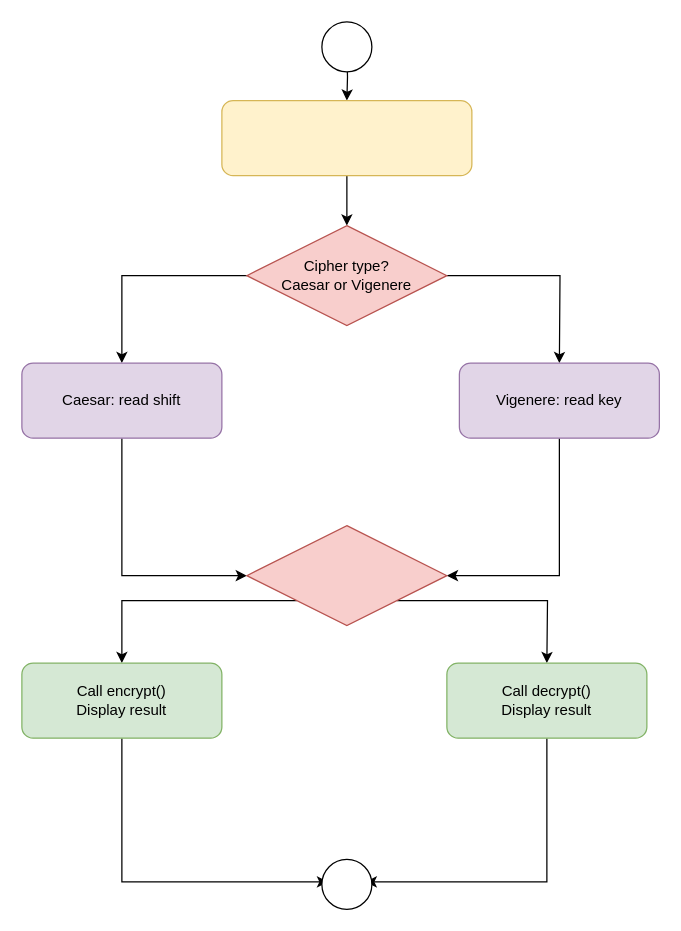
Image size: 681x931. Some labels were removed from this diagram. The shapes that lost their labels are listed below. From the top down, each one's box as (x1, y1, x2, y2) in pixels, then its label:
(221, 99, 472, 176): Read CLI arguments
(246, 524, 447, 626): Mode? Encrypt or Decrypt
